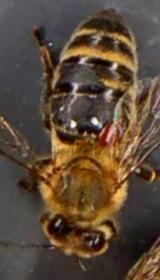varroa_mite: (93, 111, 121, 151)
